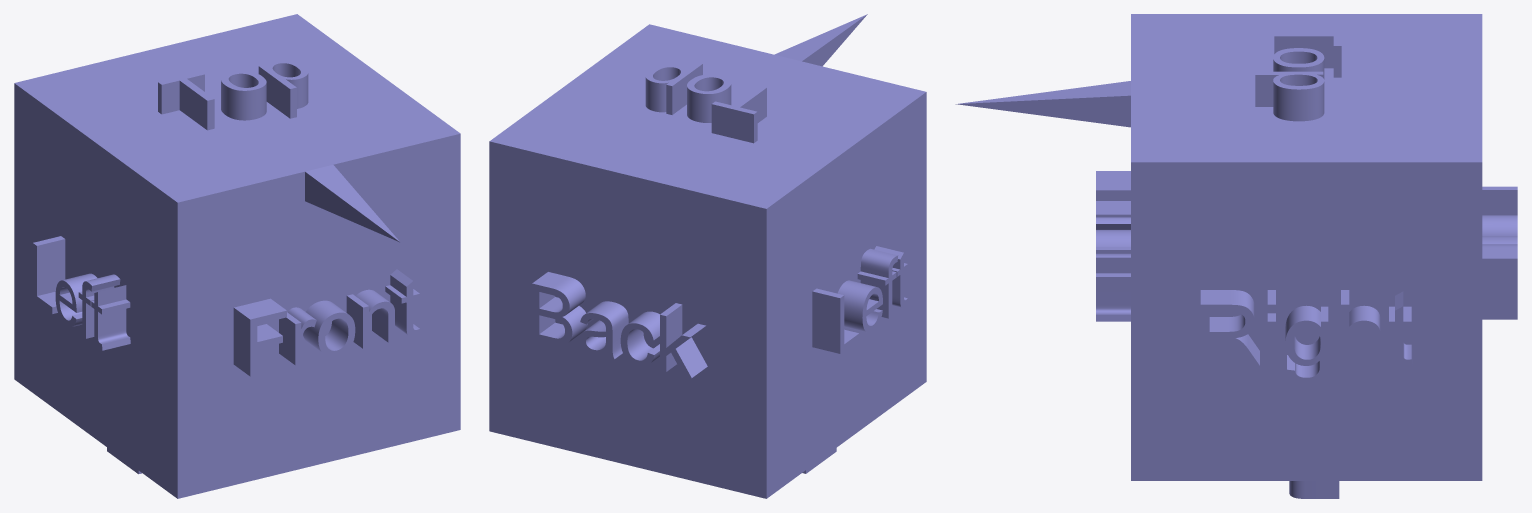
The model's file is Reference_Cube-10cm.glb.
3 views of the same model, side by side, from view 1: azimuth 30°, elevation 25°; view 2: azimuth 150°, elevation 25°; view 3: azimuth 270°, elevation 25° (orthographic). The views are drawn at different scales.
Parts seen in each view (by area): view 1: 10CM_Cube; view 2: 10CM_Cube; view 3: 10CM_Cube.
Boxes of the visible parts, x1,y1,x2,y2 form: 10CM_Cube: [14, 14, 460, 498]; 10CM_Cube: [489, 14, 926, 498]; 10CM_Cube: [955, 14, 1517, 498].
Size of the model in its own units: 0.12 by 0.12 by 0.16.
